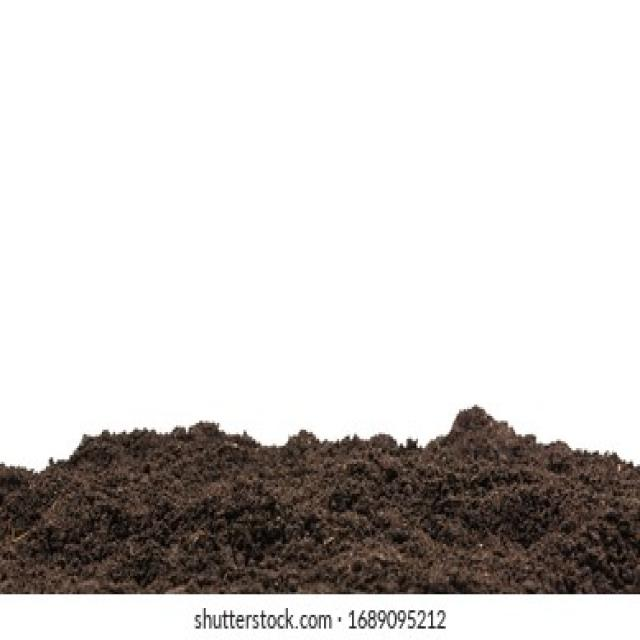Black Soil: (15, 486, 620, 572)
